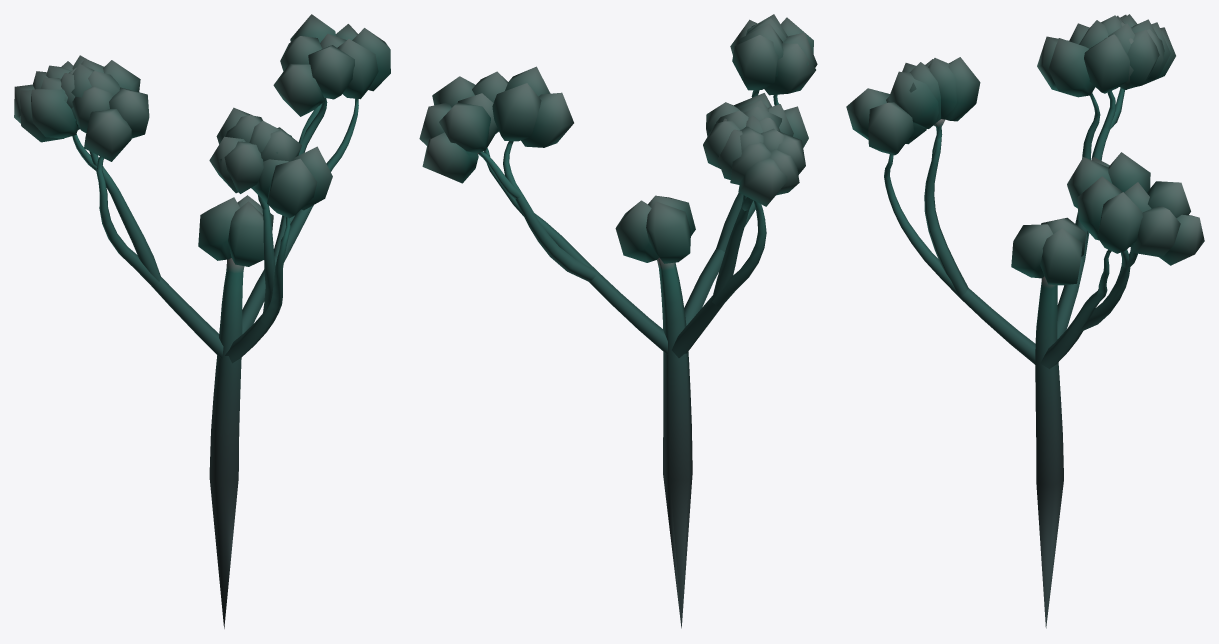
The model's file is plants-flowers-teal-cluster-flower_v6.fbx.
3 views of the same model, side by side, from view 1: azimuth 30°, elevation 25°; view 2: azimuth 150°, elevation 25°; view 3: azimuth 270°, elevation 25° (orthographic). The views are drawn at different scales.
Visible parts, largest first — view 1: Teal Cluster Flower_v6; view 2: Teal Cluster Flower_v6; view 3: Teal Cluster Flower_v6.
Part boxes in pixels (x1,y1,x2,y2): Teal Cluster Flower_v6: [14, 14, 390, 628]; Teal Cluster Flower_v6: [419, 14, 817, 628]; Teal Cluster Flower_v6: [846, 14, 1204, 628].
Bounding box in the file's own units: 0.4013 × 0.6 × 0.347.
